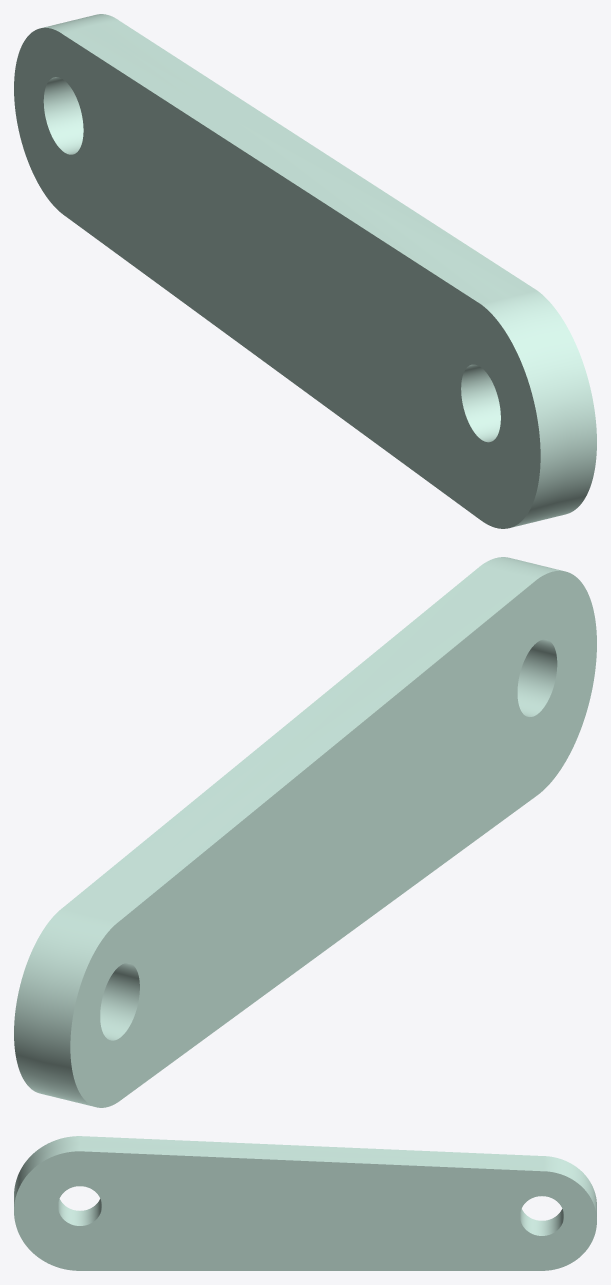
3 renders of one model, top to bottom at view 1: azimuth 30°, elevation 25°; view 2: azimuth 150°, elevation 25°; view 3: azimuth 270°, elevation 25°, orthographic. The views are drawn at different scales.
Visible parts, largest first — view 1: Renderer Node; view 2: Renderer Node; view 3: Renderer Node.
Boxes of the visible parts, box(x1,y1,x2,y2) form: Renderer Node: box(14, 14, 596, 528); Renderer Node: box(14, 557, 596, 1107); Renderer Node: box(14, 1136, 596, 1270).
Size of the model in its own units: 0.0938 by 0.3434 by 1.52.
